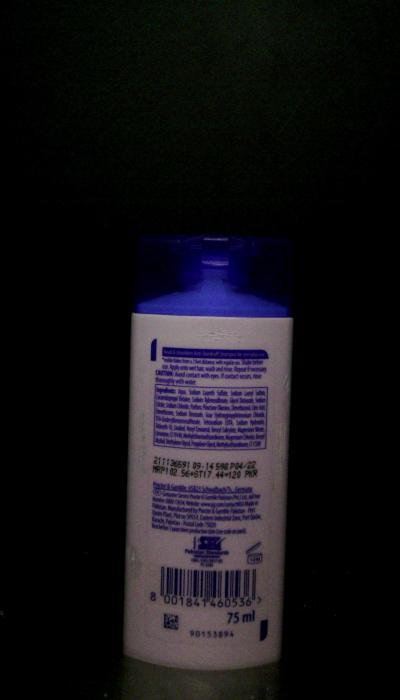scuff_marg: (268, 419, 290, 498), (189, 322, 248, 346), (132, 410, 152, 478), (126, 538, 146, 586), (132, 360, 152, 396), (275, 368, 292, 396)
